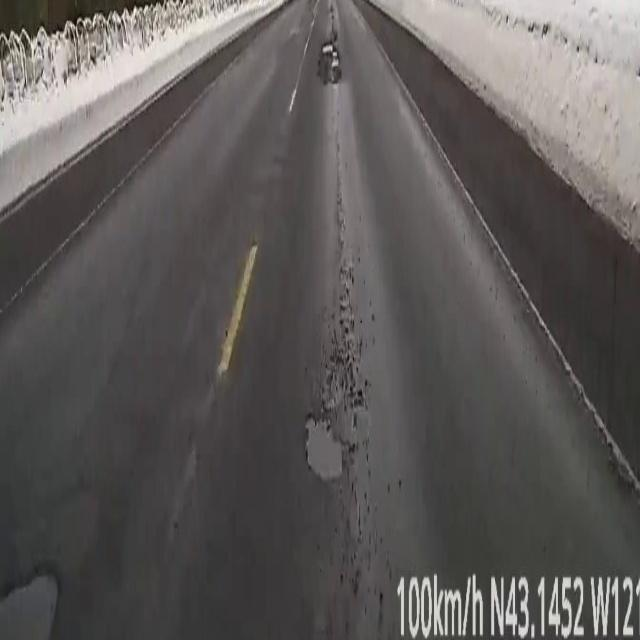pothole: (308, 418, 342, 478), (318, 38, 339, 84)
